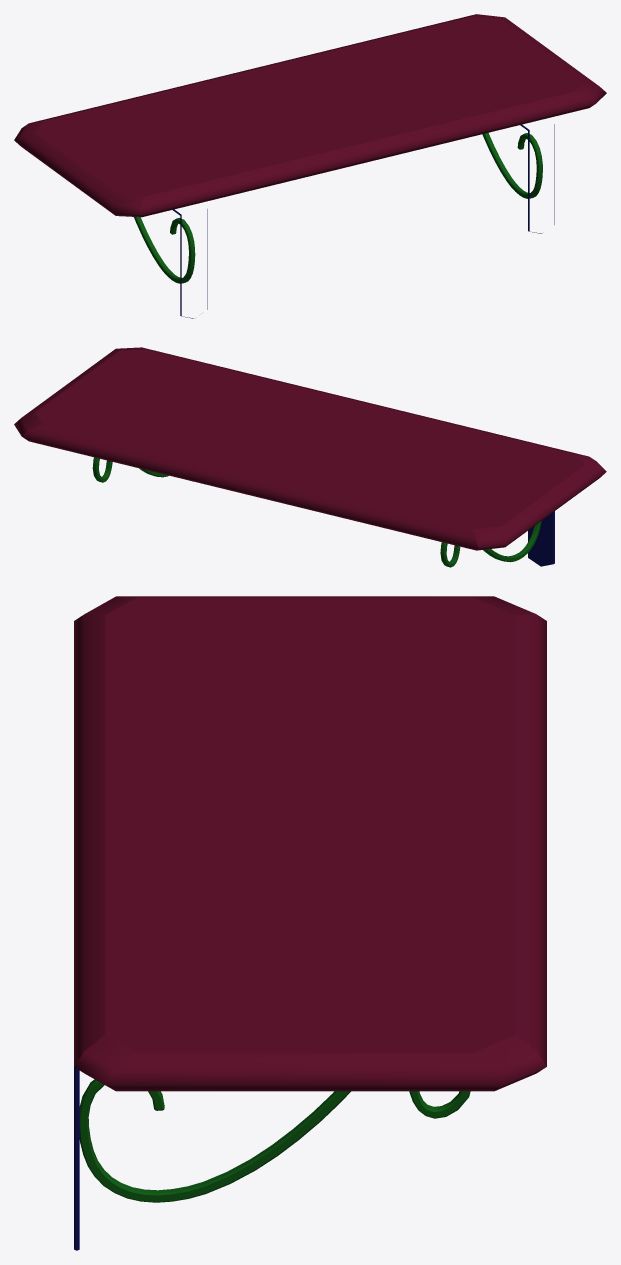
File: MESH_WallShelf.fbx
3 views of the same model, one above another, from view 1: azimuth 30°, elevation 25°; view 2: azimuth 150°, elevation 25°; view 3: azimuth 270°, elevation 25° (orthographic). The views are drawn at different scales.
Parts seen in each view (by area): view 1: MESH_WallShelf; view 2: MESH_WallShelf; view 3: MESH_WallShelf.
Part boxes in pixels (bbox=[...]): MESH_WallShelf: bbox=[14, 14, 606, 318]; MESH_WallShelf: bbox=[14, 347, 606, 567]; MESH_WallShelf: bbox=[74, 596, 546, 1250].
Size of the model in its own units: 1.02 by 0.2509 by 0.4231.
